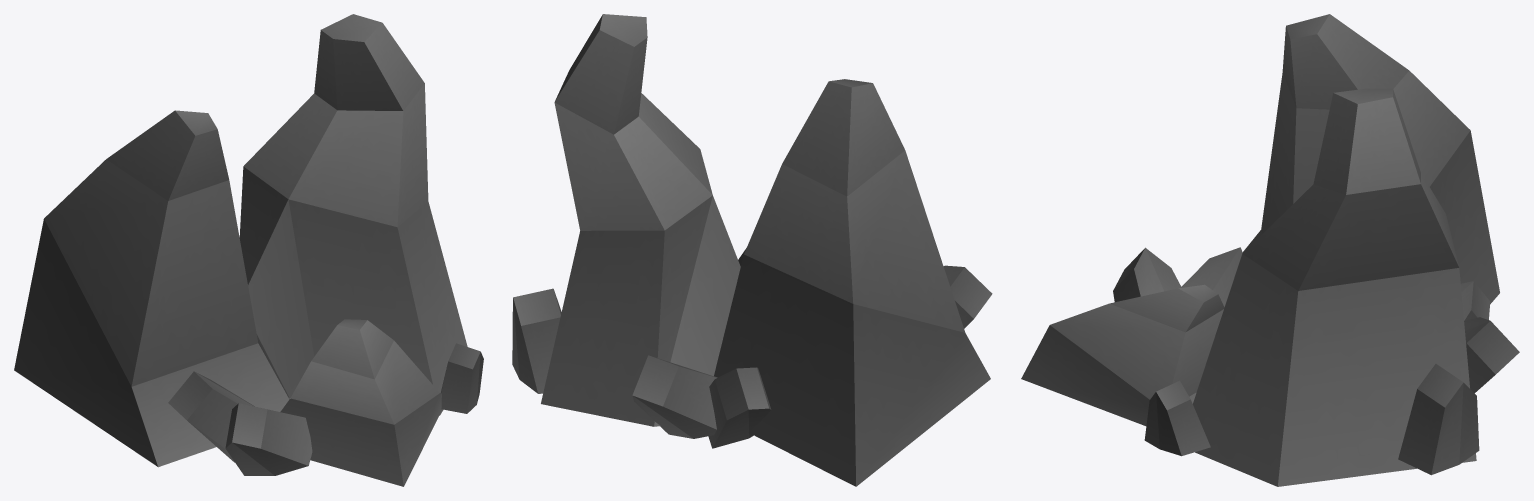
The model's file is pack02_rocks_10.fbx.
The picture shows the model from 3 angles, left to right: view 1: azimuth 30°, elevation 25°; view 2: azimuth 150°, elevation 25°; view 3: azimuth 270°, elevation 25°; orthographic projection. The views are drawn at different scales.
Visible parts, largest first — view 1: Rock Type3 02 mesh; view 2: Rock Type3 02 mesh; view 3: Rock Type3 02 mesh.
Boxes of the visible parts, x1,y1,x2,y2 form: Rock Type3 02 mesh: [14, 14, 483, 486]; Rock Type3 02 mesh: [512, 14, 992, 486]; Rock Type3 02 mesh: [1021, 14, 1519, 486].
Bounding box in the file's own units: 230 × 210 × 257.
Materials: 1 (1 with a texture image).
